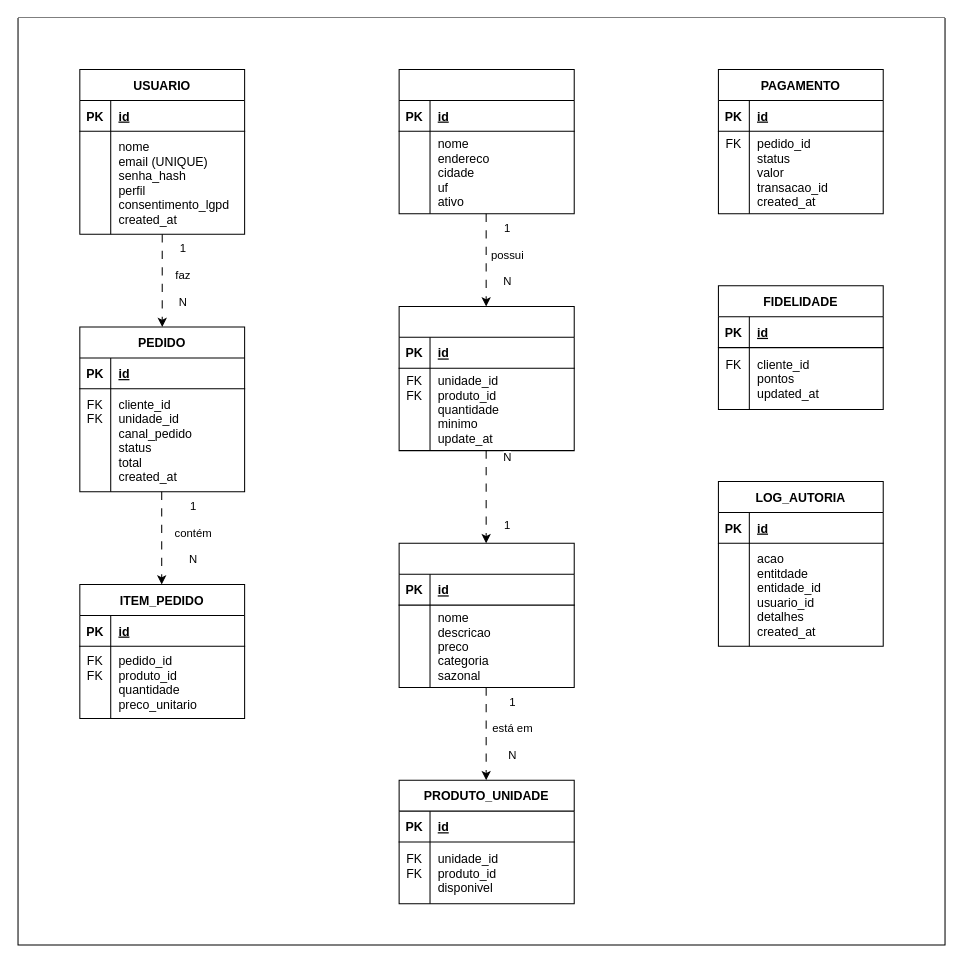
Some shapes in this 963 by 963 pixel diagram are drawn without their labels. Here are the shapes that lost their labels. From the top down, the box of each, then its label:
(398, 68, 574, 214): UNIDADE
(398, 305, 574, 451): ESTOQUE
(398, 542, 574, 688): PRODUTO
